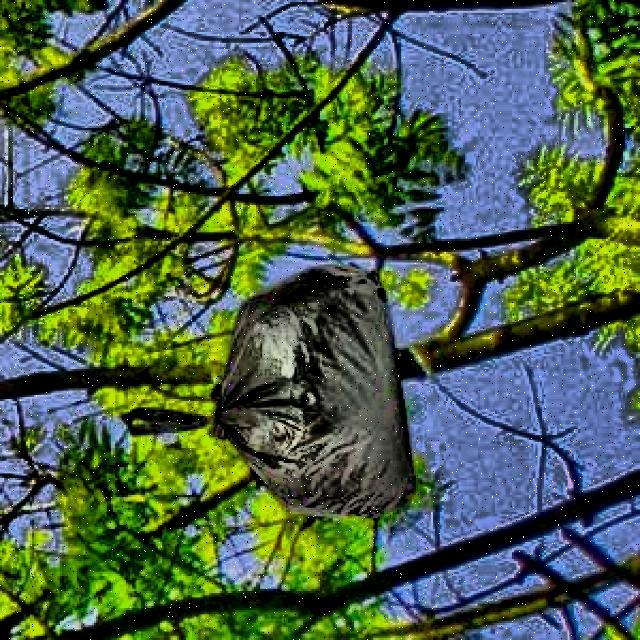Trashbag: (207, 260, 416, 525)
